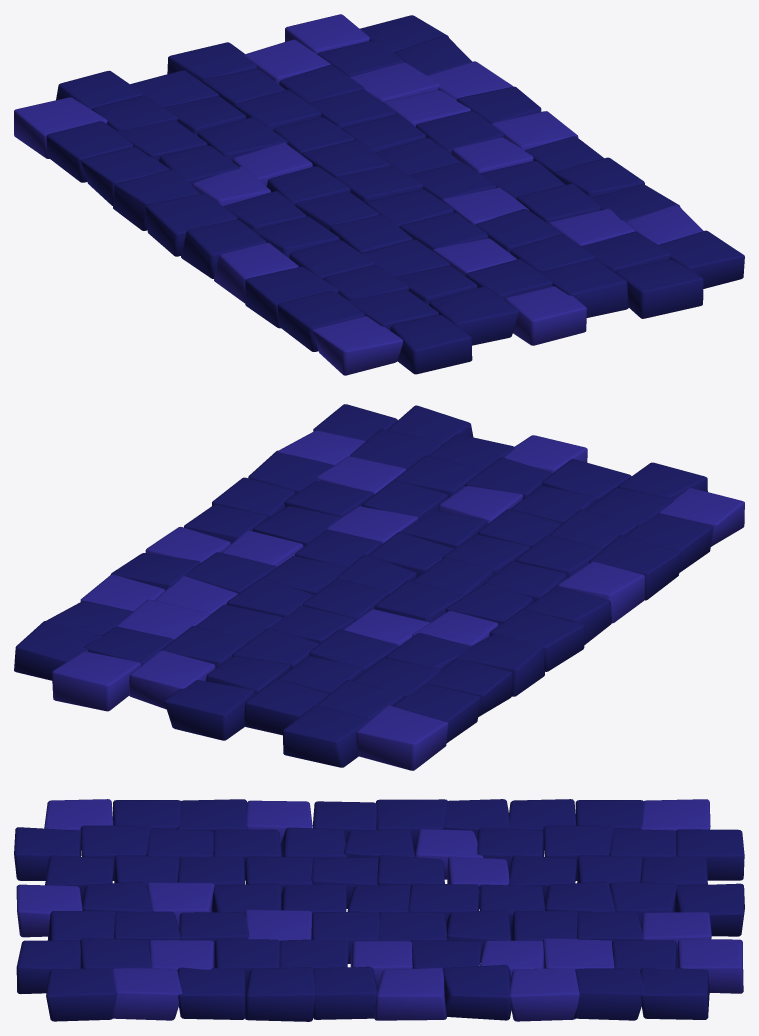
The model's file is floor_blocks.fbx.
3 views of the same model, one above another, from view 1: azimuth 30°, elevation 25°; view 2: azimuth 150°, elevation 25°; view 3: azimuth 270°, elevation 25° (orthographic).
Parts seen in each view (by area): view 1: Cube.104, Cube.103, Cube.102, Cube.101, Cube.106, Cube.108, Cube.138, Cube.110, Cube.118, Cube.166, Cube.111, Cube.159 (+61 smaller); view 2: Cube.166, Cube.169, Cube.171, Cube.167, Cube.138, Cube.172, Cube.170, Cube.118, Cube.168, Cube.145, Cube.125, Cube.111 (+61 smaller); view 3: Cube.131, Cube.144, Cube.151, Cube.110, Cube.158, Cube.172, Cube.124, Cube.117, Cube.165, Cube.137, Cube.171, Cube.167 (+61 smaller).
Part boxes in pixels (box(x1,y1,x2,y2)): Cube.104: box(312, 316, 402, 375); Cube.103: box(614, 259, 703, 318); Cube.102: box(390, 315, 472, 374); Cube.101: box(505, 286, 586, 345); Cube.106: box(429, 286, 518, 345); Cube.108: box(539, 259, 628, 317); Cube.138: box(145, 193, 237, 256); Cube.110: box(658, 230, 744, 288); Cube.118: box(245, 266, 338, 328); Cube.166: box(14, 97, 107, 158); Cube.111: box(277, 290, 364, 351); Cube.159: box(46, 121, 133, 182); Cube.166: box(356, 705, 448, 770); Cube.169: box(164, 680, 254, 740); Cube.171: box(52, 651, 140, 711); Cube.167: box(283, 705, 370, 767); Cube.138: box(489, 609, 584, 671); Cube.172: box(14, 621, 101, 680); Cube.170: box(129, 650, 215, 709); Cube.118: box(589, 535, 680, 600); Cube.168: box(243, 679, 329, 735); Cube.145: box(456, 634, 544, 696); Cube.125: box(558, 561, 644, 623); Cube.111: box(626, 513, 713, 572); Cube.131: box(244, 967, 315, 1021); Cube.144: box(374, 967, 446, 1020); Cube.151: box(442, 965, 511, 1020); Cube.110: box(46, 968, 117, 1021); Cube.158: box(509, 968, 579, 1021); Cube.172: box(640, 967, 709, 1019); Cube.124: box(177, 967, 246, 1019); Cube.117: box(111, 968, 182, 1020); Cube.165: box(574, 968, 644, 1020); Cube.137: box(313, 966, 377, 1019); Cube.171: box(677, 939, 743, 993); Cube.167: box(676, 829, 744, 880).
Size of the model in its own units: 1364 by 98.13 by 2123.
